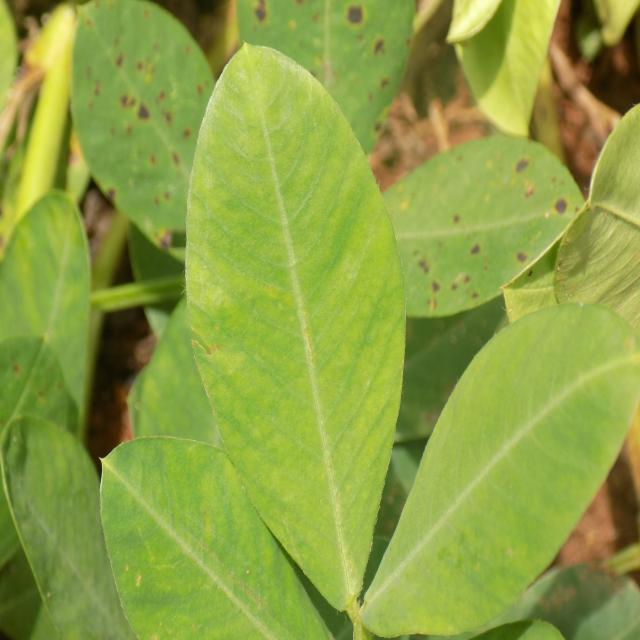Ground nut_healthy: (188, 39, 404, 618), (353, 306, 640, 640)
Ground nut_tikka leaf spot: (69, 0, 301, 318), (312, 138, 590, 319)
